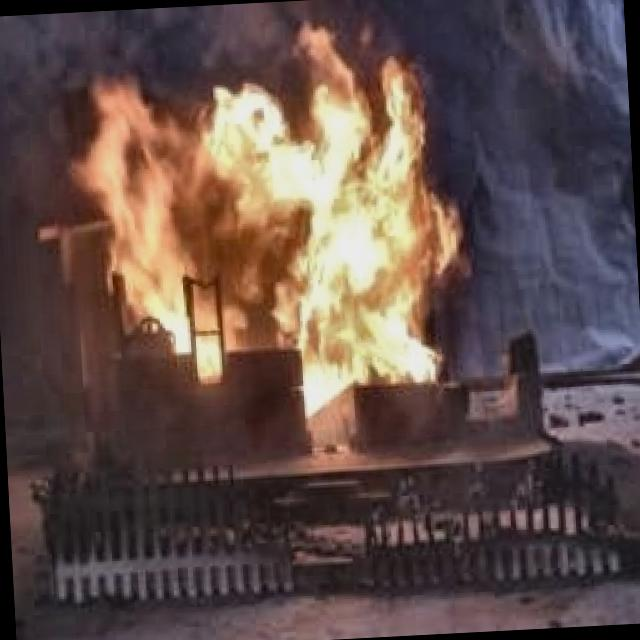fire: (90, 26, 477, 388)
